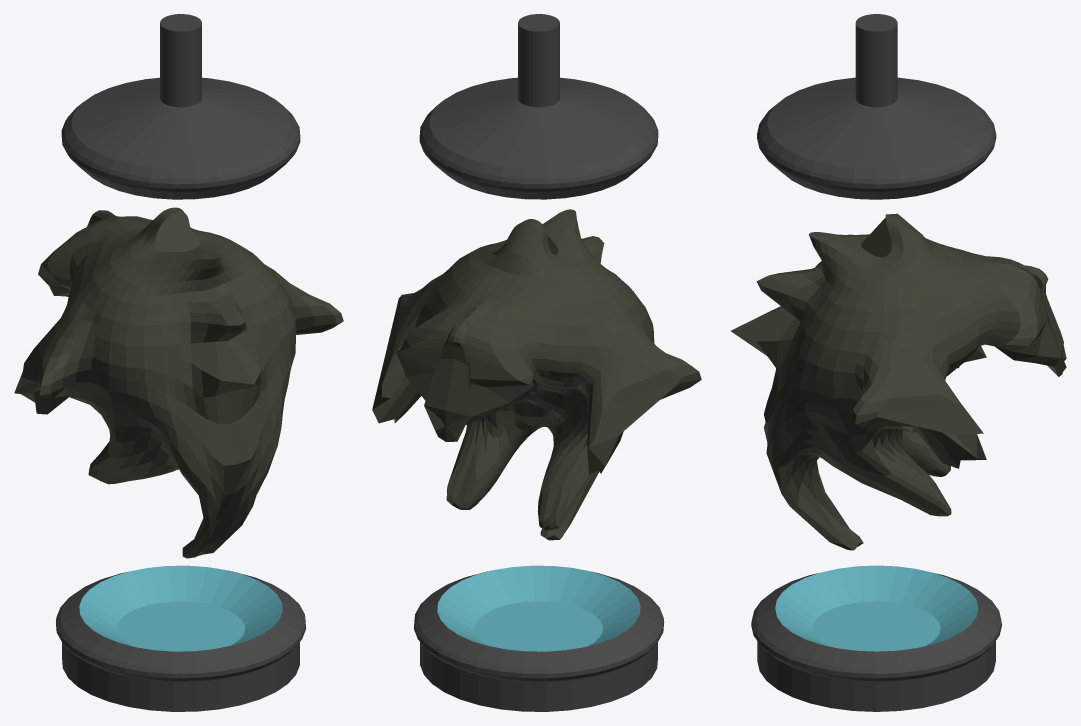
File: UnkownAnimal_01.fbx
3 renders of one model, left to right at view 1: azimuth 30°, elevation 25°; view 2: azimuth 150°, elevation 25°; view 3: azimuth 270°, elevation 25°, orthographic.
Parts seen in each view (by area): view 1: Unkown_Animals_01; view 2: Unkown_Animals_01; view 3: Unkown_Animals_01.
Boxes of the visible parts, <box> form: Unkown_Animals_01: <box>14,14,343,711</box>; Unkown_Animals_01: <box>372,14,701,711</box>; Unkown_Animals_01: <box>731,14,1066,711</box>.
Bounding box in the file's own units: 294 × 591 × 282.
